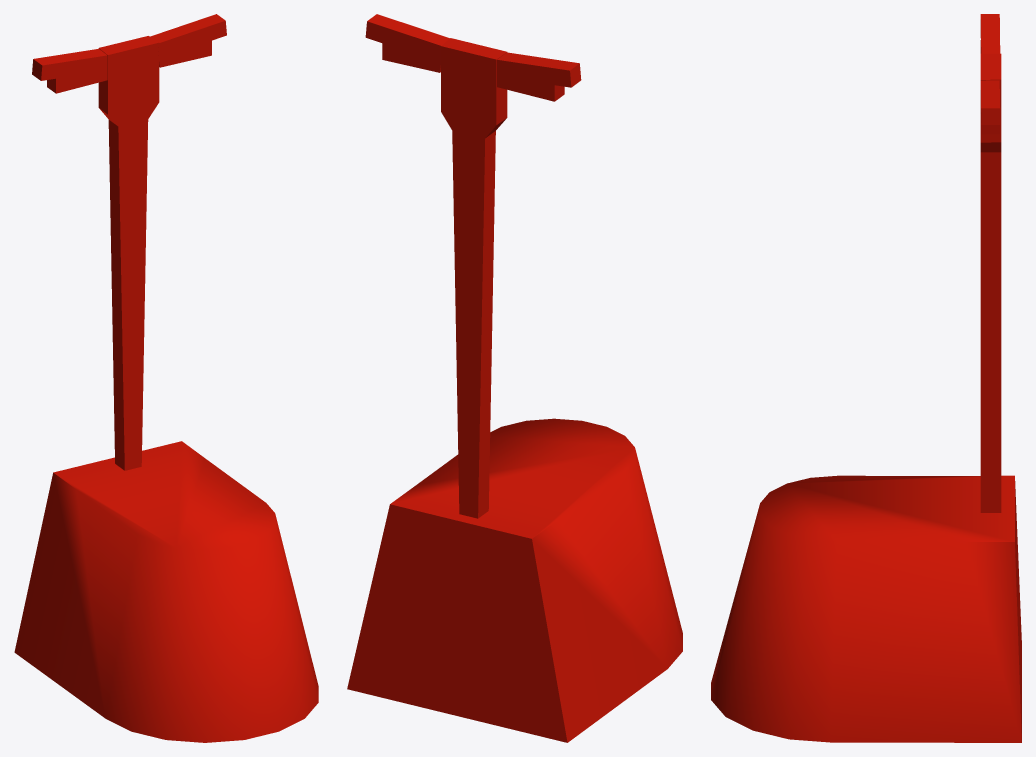
Rendered from UCX_floor_scrubber.fbx.
The picture shows the model from 3 angles, left to right: view 1: azimuth 30°, elevation 25°; view 2: azimuth 150°, elevation 25°; view 3: azimuth 270°, elevation 25°; orthographic projection. The views are drawn at different scales.
Parts seen in each view (by area): view 1: UCX_floor_scrubber; view 2: UCX_floor_scrubber; view 3: UCX_floor_scrubber.
Part boxes in pixels (x1=…): UCX_floor_scrubber: x1=14, y1=14, x2=318, y2=742; UCX_floor_scrubber: x1=347, y1=14, x2=682, y2=742; UCX_floor_scrubber: x1=711, y1=14, x2=1021, y2=742.
Size of the model in its own units: 0.4992 by 1.43 by 0.6391.
